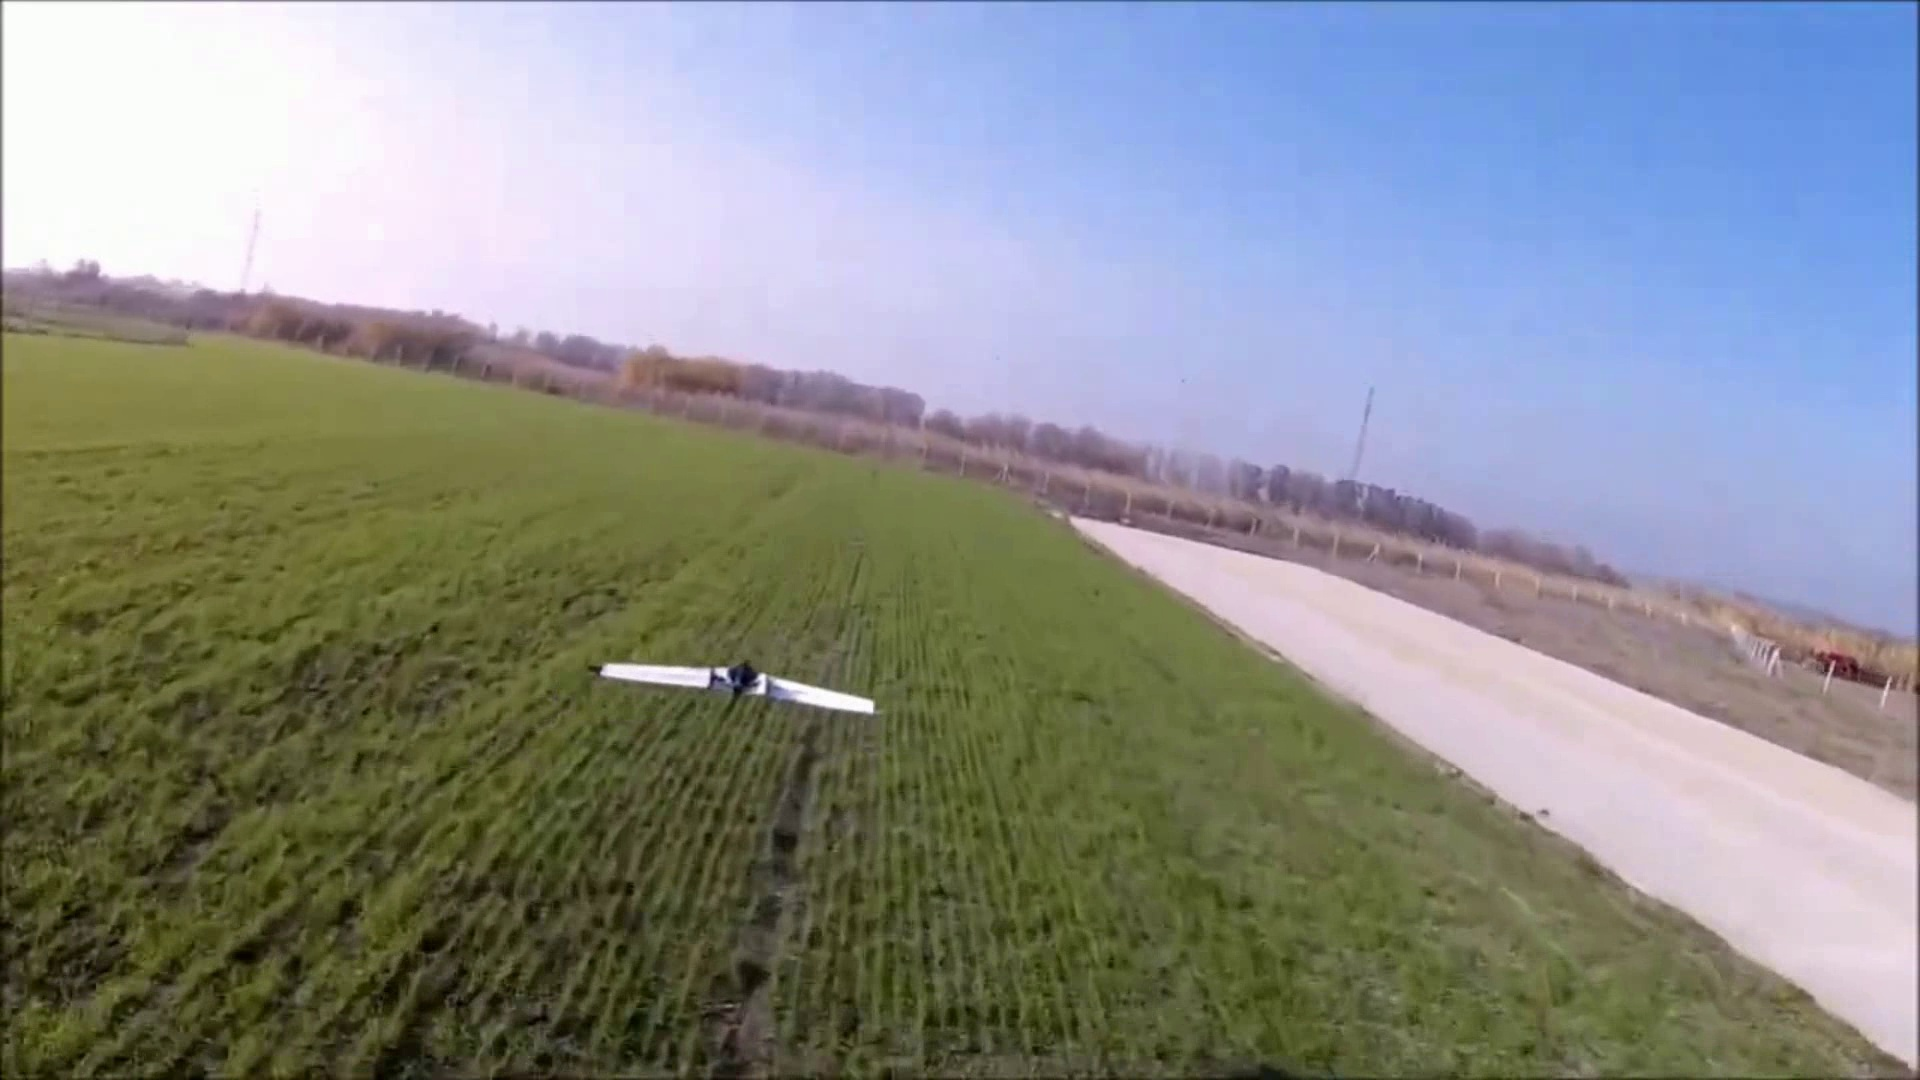airplane: (597, 659, 876, 717)
